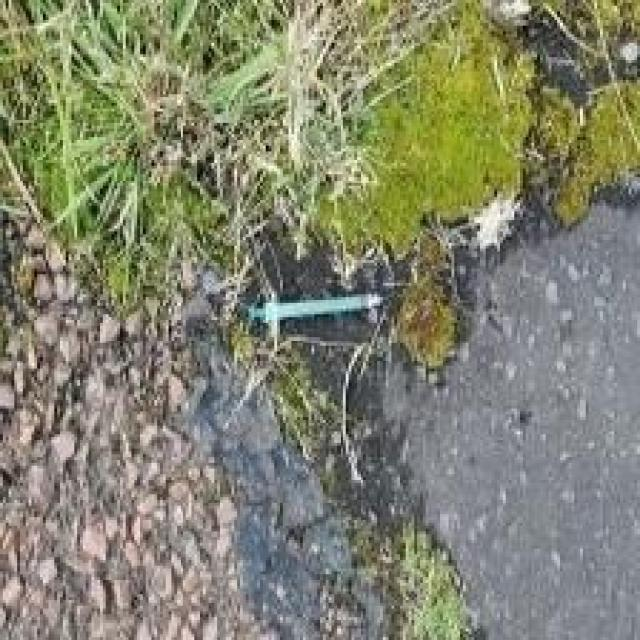syringe: (250, 274, 391, 331)
